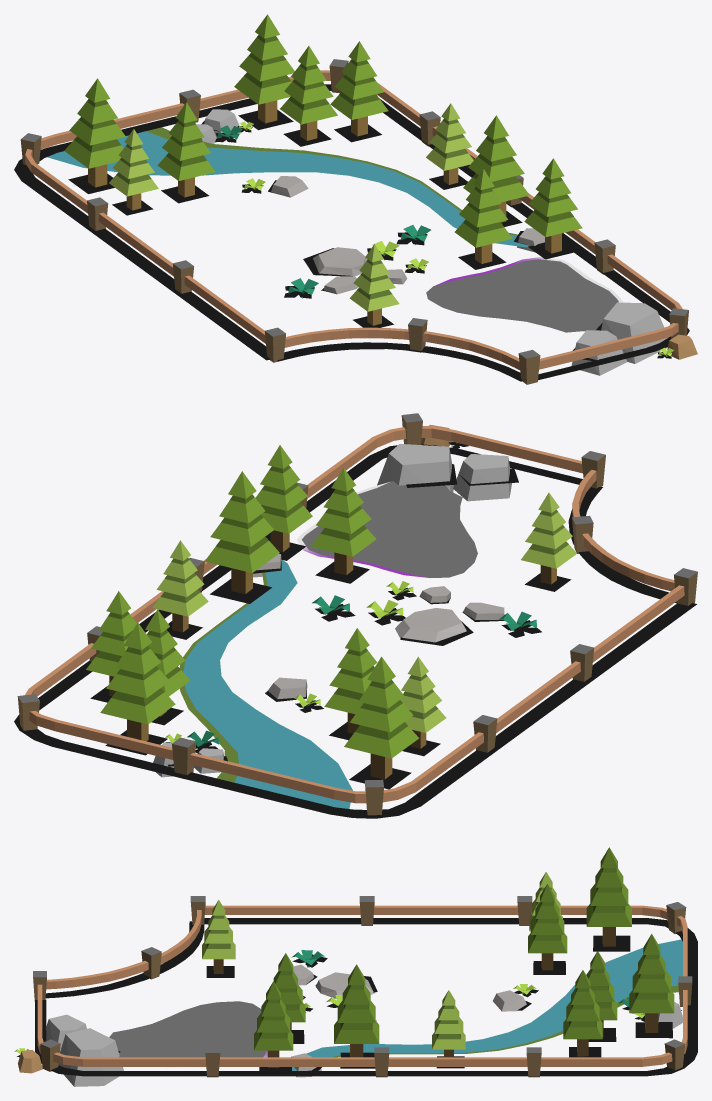
File: xweilan_1004_0.FBX
3 views of the same model, one above another, from view 1: azimuth 30°, elevation 25°; view 2: azimuth 150°, elevation 25°; view 3: azimuth 270°, elevation 25° (orthographic). The views are drawn at different scales.
Parts seen in each view (by area): view 1: xweilan_1004_0; view 2: xweilan_1004_0; view 3: xweilan_1004_0.
Part boxes in pixels (<box>): xweilan_1004_0: <box>14,14,697,384</box>; xweilan_1004_0: <box>14,413,697,818</box>; xweilan_1004_0: <box>14,847,697,1086</box>.
Size of the model in its own units: 4174 by 1388 by 7612.
